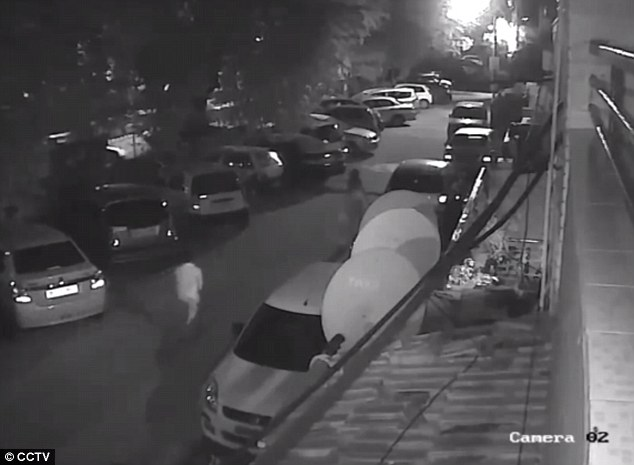person: (168, 241, 210, 342)
